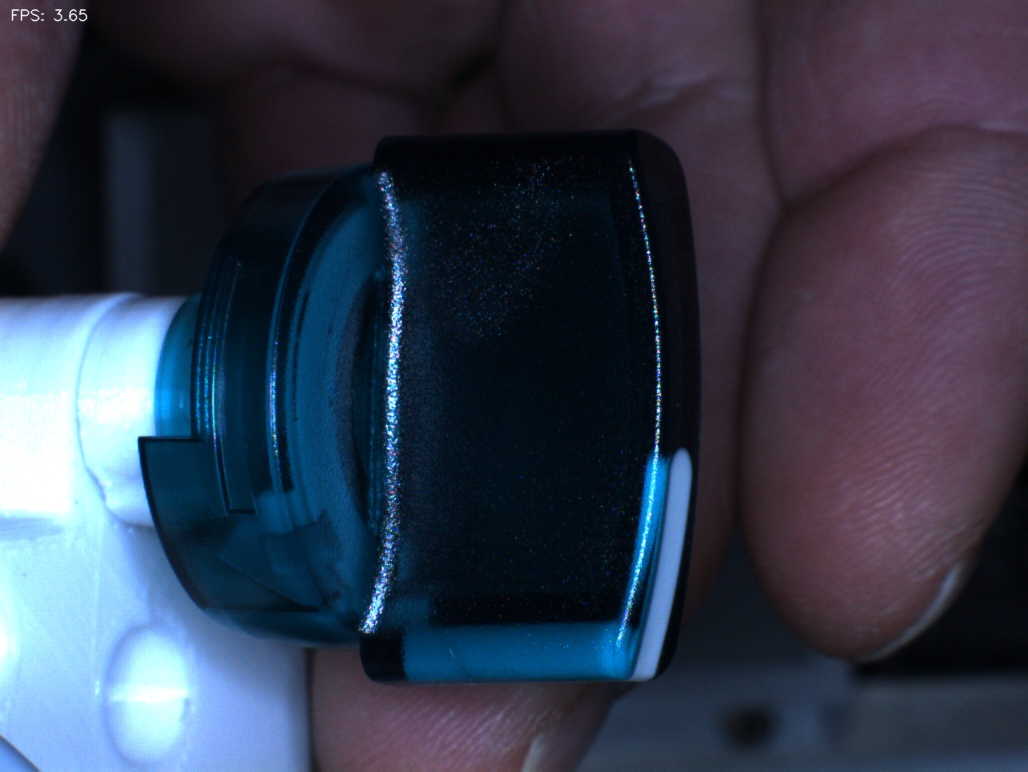PointNoir: (295, 297, 367, 364)
